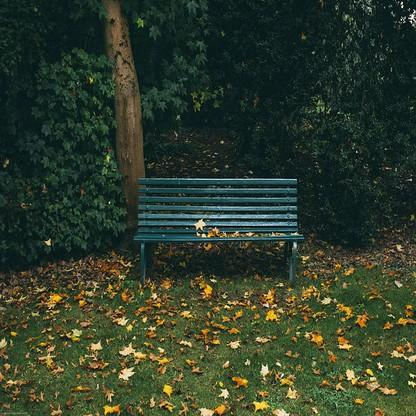obstacle: (125, 163, 315, 288)
